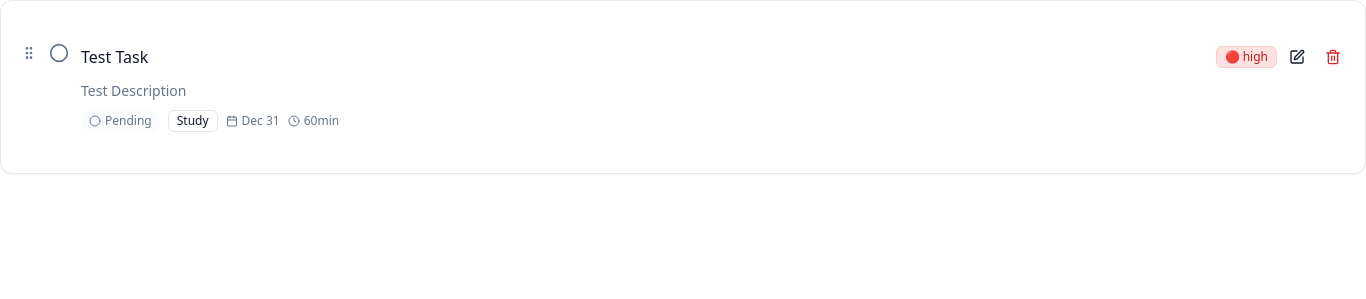
Scenario: TaskItem › shows edit dialog when edit button is clicked
This screenshot has width=1366, height=299.
Click the button named "edit task" at (1297, 57), box [1281,41,1313,73]
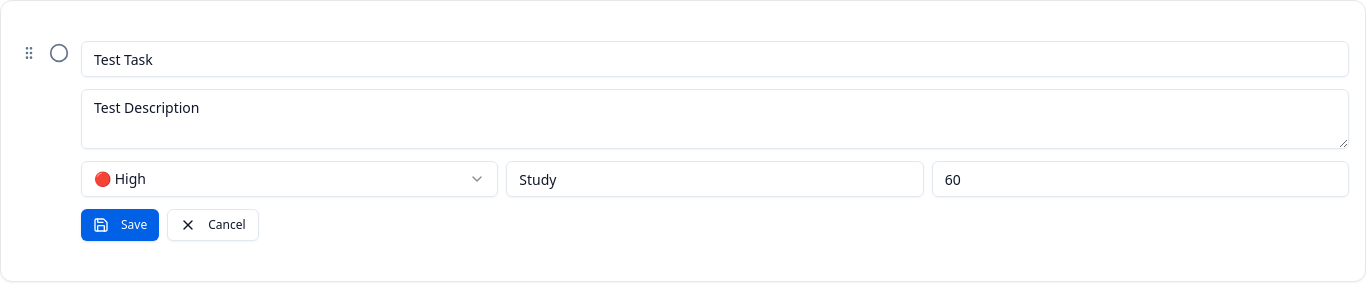
Check: the 1st field showing "Test Task" is shown, box [81,41,1349,77]
Check: the text box showing "Test Description" is shown, box [81,89,1349,149]
